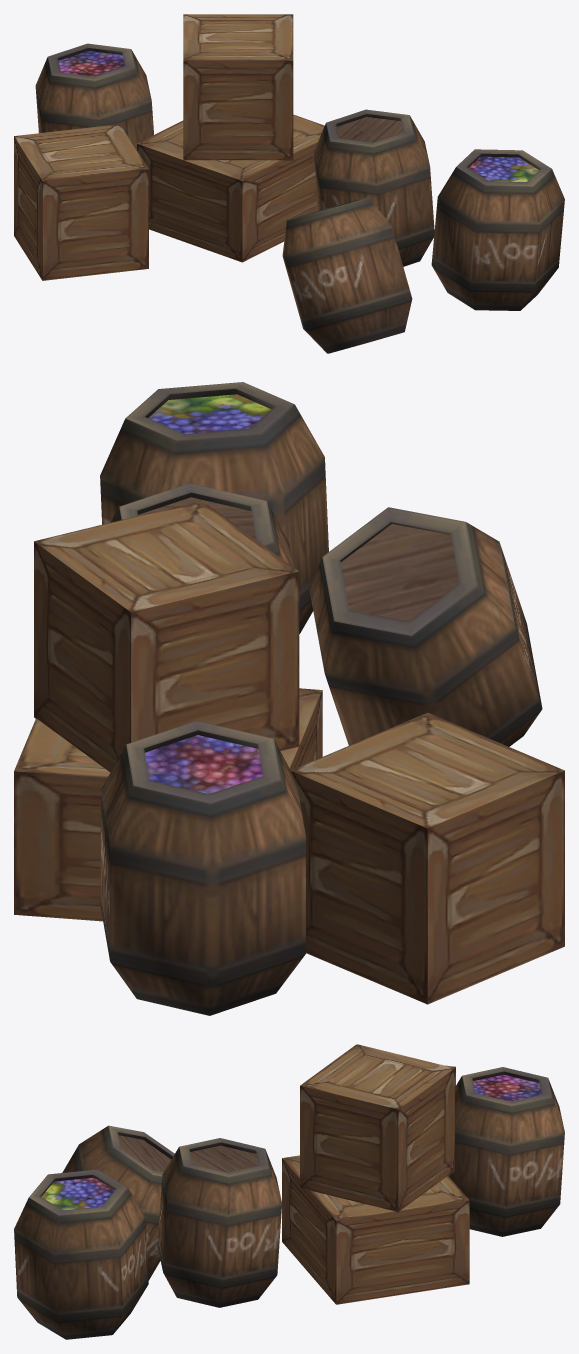
File: Map_05_wooden013.FBX
3 views of the same model, one above another, from view 1: azimuth 30°, elevation 25°; view 2: azimuth 150°, elevation 25°; view 3: azimuth 270°, elevation 25° (orthographic). The views are drawn at different scales.
Visible parts, largest first — view 1: Map_05_wooden013; view 2: Map_05_wooden013; view 3: Map_05_wooden013.
Boxes of the visible parts, x1=… form: Map_05_wooden013: x1=14, y1=14, x2=564, y2=353; Map_05_wooden013: x1=14, y1=382, x2=564, y2=1015; Map_05_wooden013: x1=14, y1=1044, x2=564, y2=1339.
Bounding box in the file's own units: 324 × 173 × 394.
